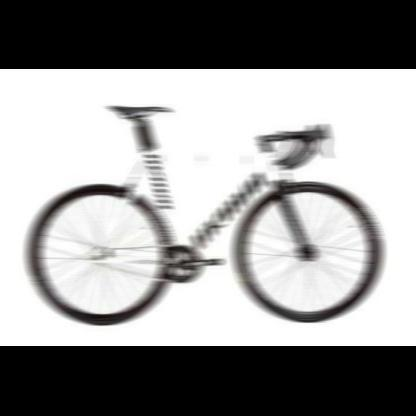Bicycle: (14, 80, 394, 335)
